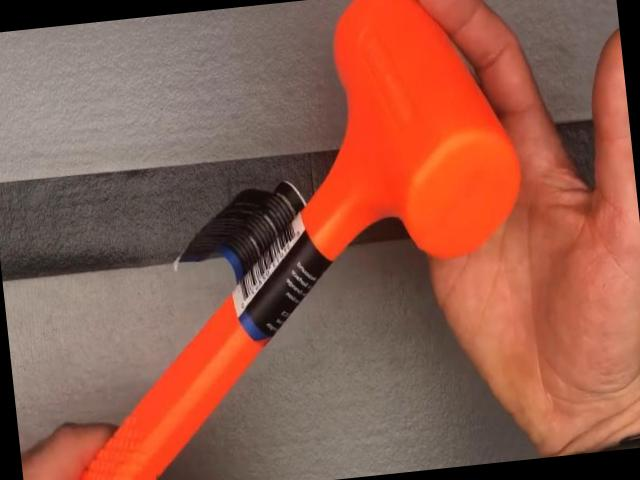hammer: (6, 0, 552, 480)
